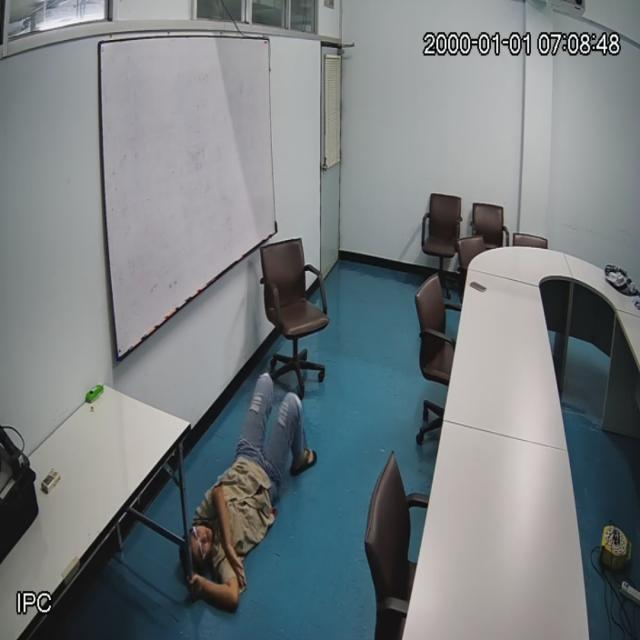fall: (189, 387, 309, 613)
